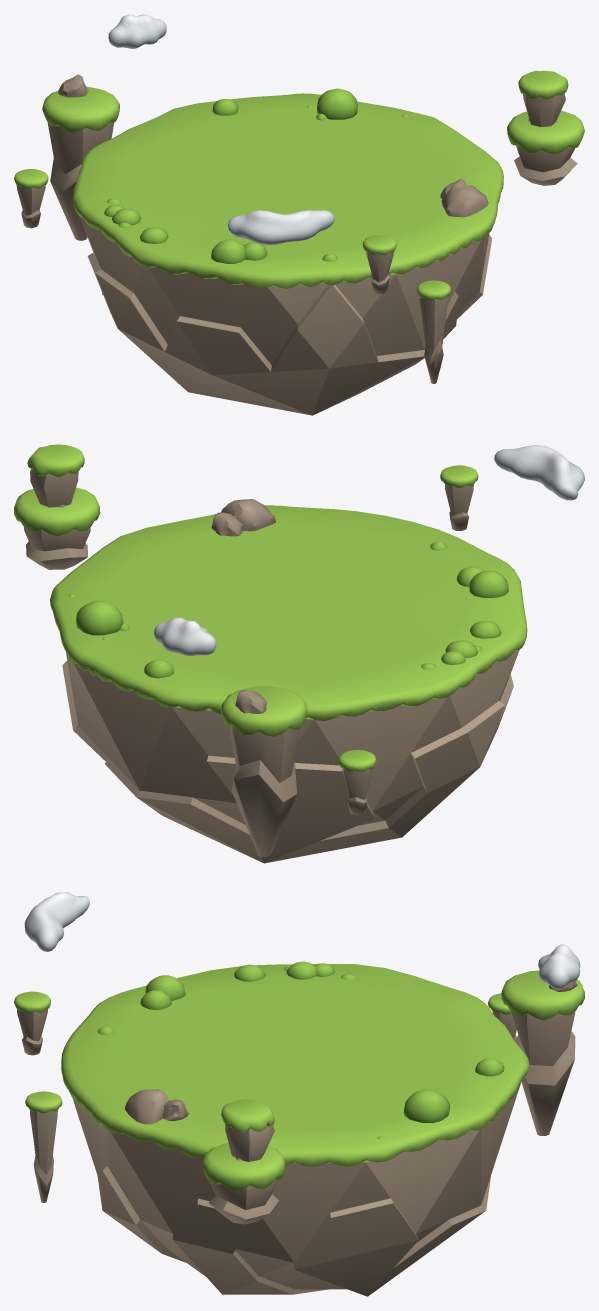
3 views of the same model, one above another, from view 1: azimuth 30°, elevation 25°; view 2: azimuth 150°, elevation 25°; view 3: azimuth 270°, elevation 25° (orthographic). The views are drawn at different scales.
Visible parts, largest first — view 1: Bush_1_G_Color3.002; view 2: Bush_1_G_Color3.002; view 3: Bush_1_G_Color3.002.
Part boxes in pixels (bbox=[...]): Bush_1_G_Color3.002: bbox=[14, 14, 584, 415]; Bush_1_G_Color3.002: bbox=[14, 444, 584, 863]; Bush_1_G_Color3.002: bbox=[14, 892, 584, 1296].
Bounding box in the file's own units: 2.29 × 1.44 × 2.34.
2 materials, 2 textured.
